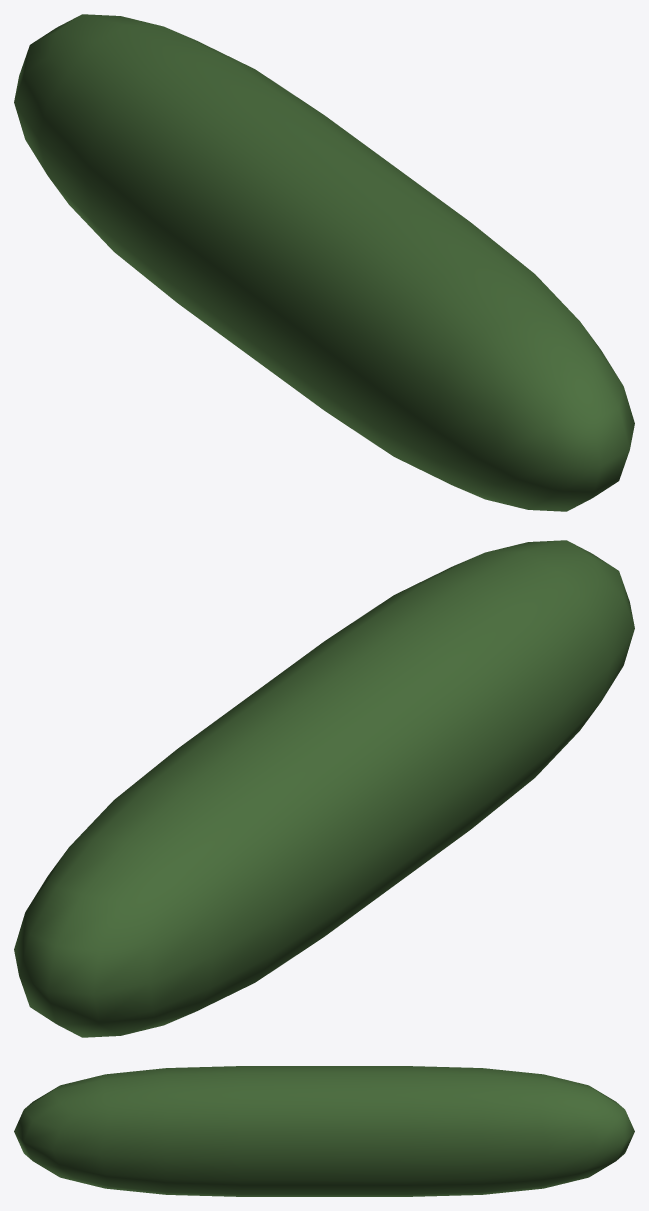
The model's file is Cucumber.fbx.
The picture shows the model from 3 angles, top to bottom: view 1: azimuth 30°, elevation 25°; view 2: azimuth 150°, elevation 25°; view 3: azimuth 270°, elevation 25°; orthographic projection. The views are drawn at different scales.
Parts seen in each view (by area): view 1: pCube34; view 2: pCube34; view 3: pCube34.
Part boxes in pixels (x1=…): pCube34: x1=14, y1=14, x2=634, y2=511; pCube34: x1=14, y1=540, x2=634, y2=1037; pCube34: x1=14, y1=1066, x2=634, y2=1196.
Bounding box in the file's own units: 0.5767 × 0.5767 × 2.77.
